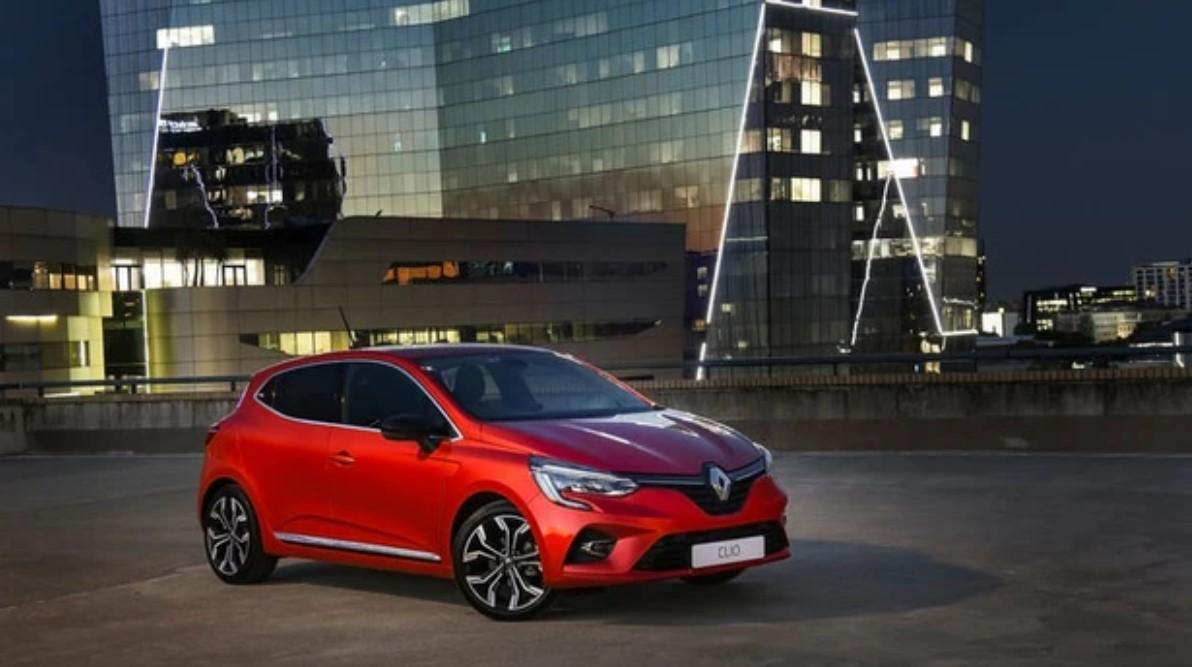Renault: (703, 457, 735, 510)
